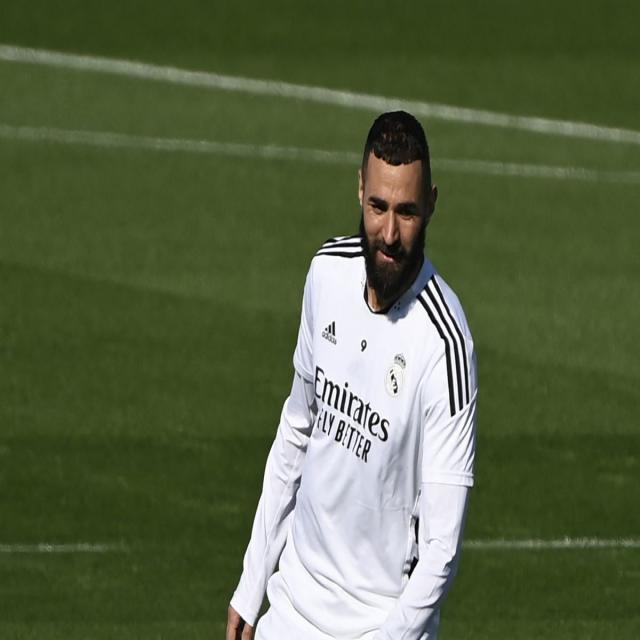Adidas: (322, 319, 338, 346)
Emirates: (315, 364, 390, 443)
